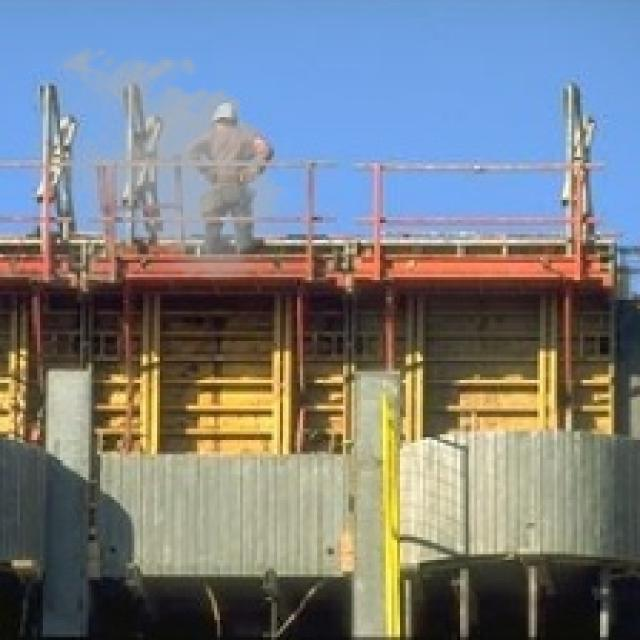smoke: (29, 40, 300, 289)
